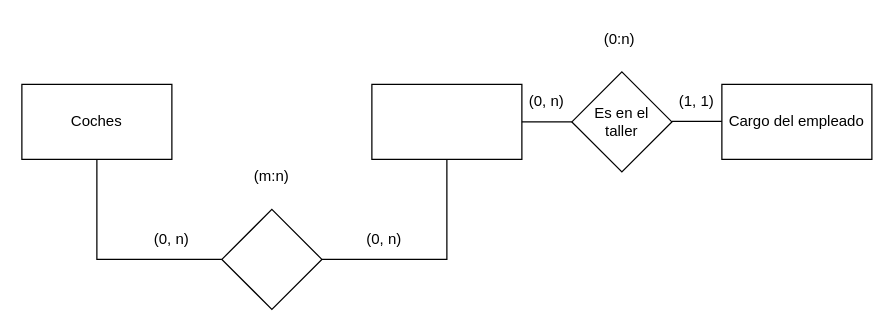
This 894x331 diagram has some shape labels left out. Each missing label, with the box of its shape:
Arreglan: (221, 208, 322, 309)
Empleados: (371, 83, 522, 159)
